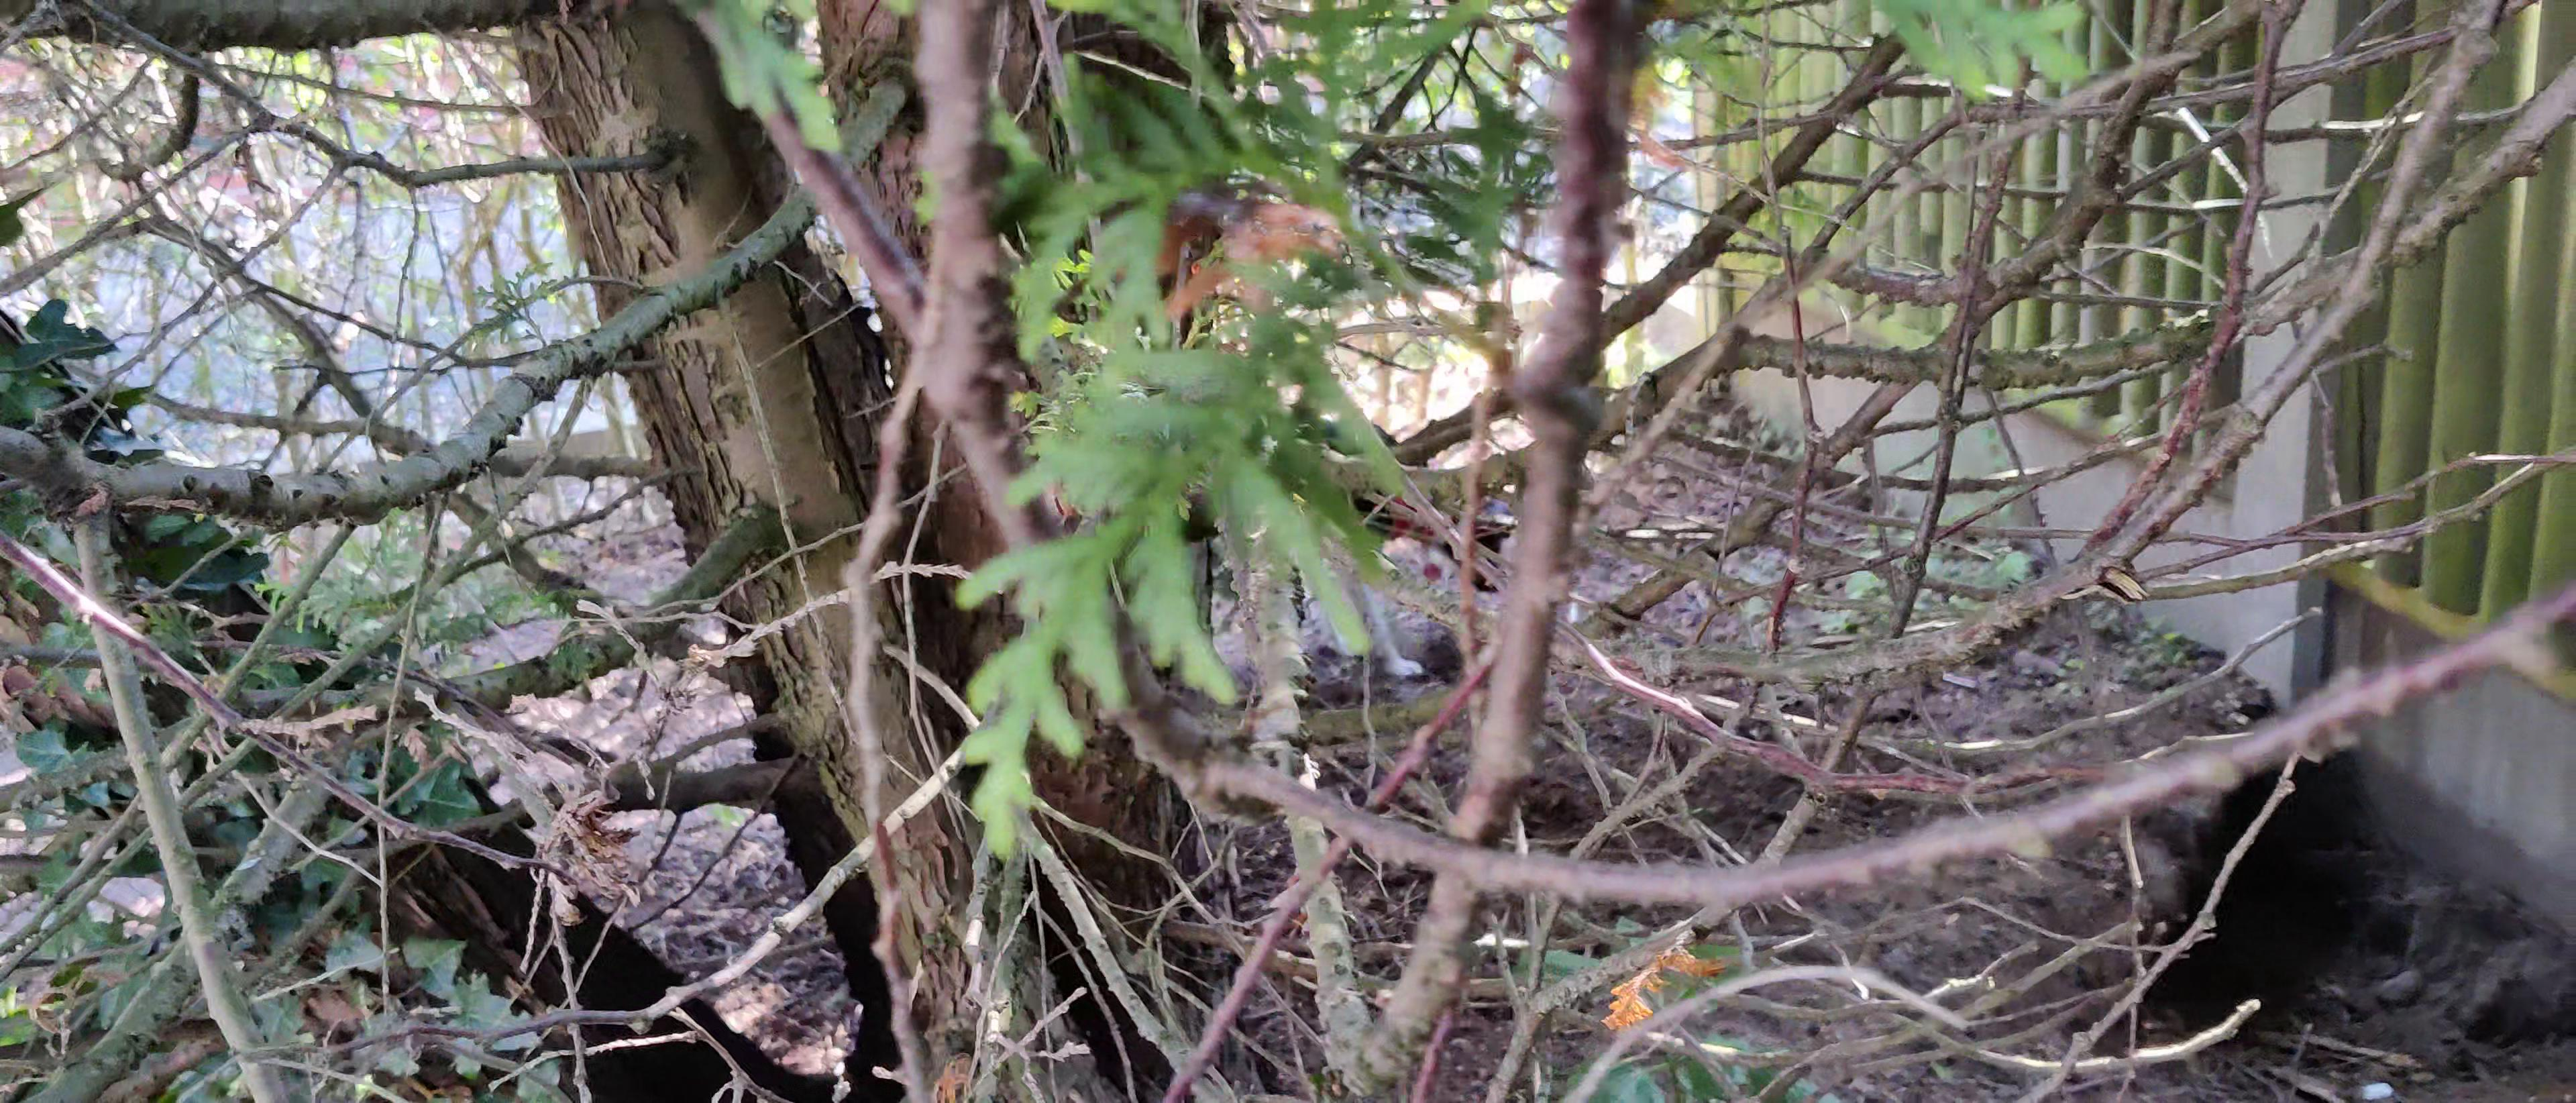Dog: (1283, 444, 1518, 700)
